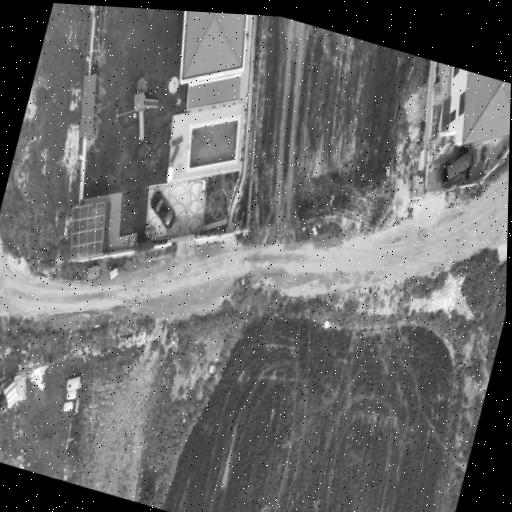car: (445, 148, 475, 181), (150, 190, 174, 228)
